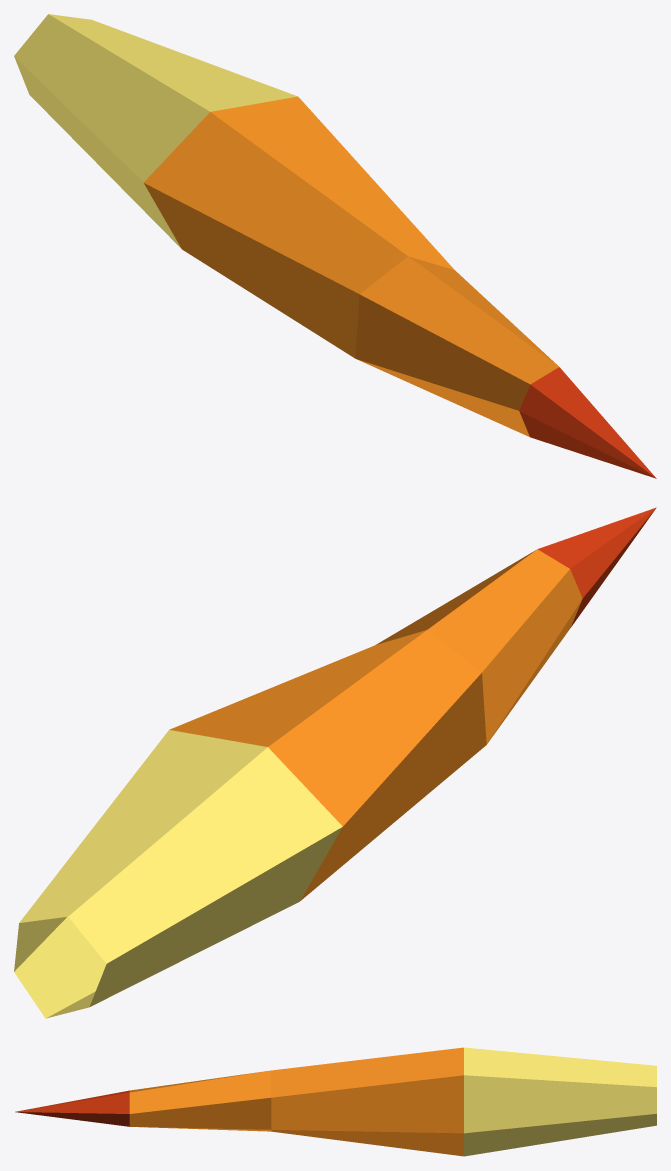
The picture shows the model from 3 angles, top to bottom: view 1: azimuth 30°, elevation 25°; view 2: azimuth 150°, elevation 25°; view 3: azimuth 270°, elevation 25°; orthographic projection. The views are drawn at different scales.
Visible parts, largest first — view 1: t11_g27_p1; view 2: t11_g27_p1; view 3: t11_g27_p1.
Part boxes in pixels (x1,y1,x2,y2): t11_g27_p1: [14, 14, 656, 478]; t11_g27_p1: [14, 507, 656, 1018]; t11_g27_p1: [15, 1047, 656, 1156].
Size of the model in its own units: 1.92 by 1.82 by 11.
